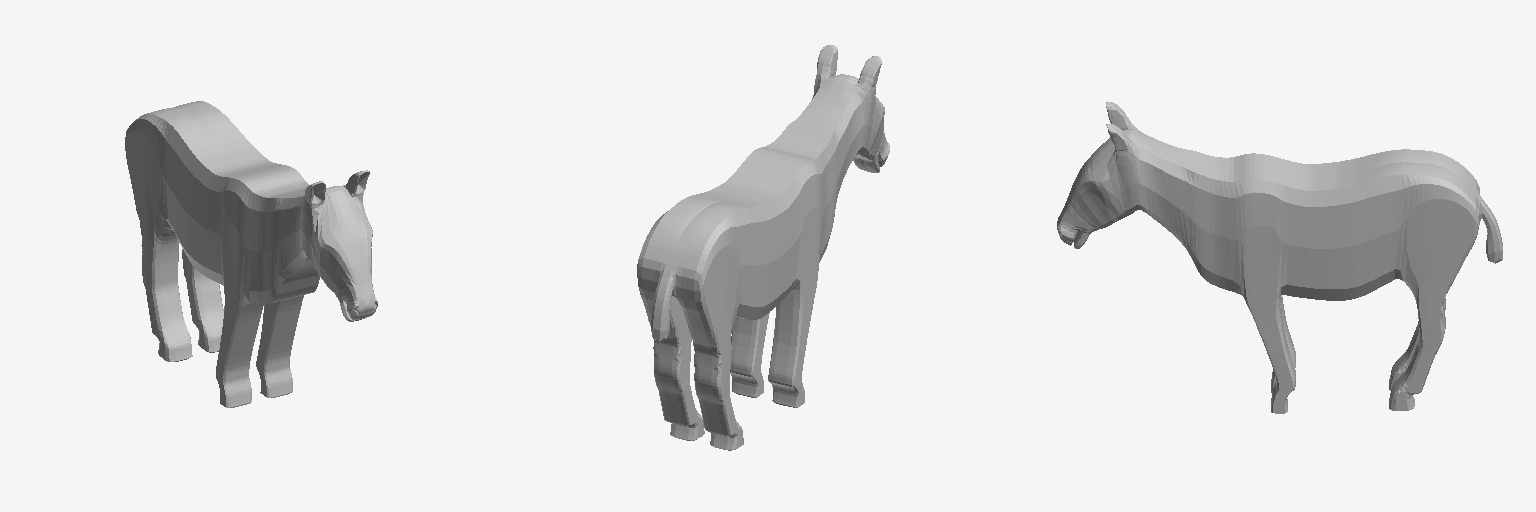
The model's file is invitacion.obj.
The picture shows the model from 3 angles: view 1: azimuth 30°, elevation 25°; view 2: azimuth 150°, elevation 25°; view 3: azimuth 270°, elevation 25°; orthographic projection.
Visible parts, largest first — view 1: UV_Texture; view 2: UV_Texture; view 3: UV_Texture.
Boxes of the visible parts, box(x1,y1,x2,y2) form: UV_Texture: box(125, 101, 377, 407); UV_Texture: box(637, 45, 889, 450); UV_Texture: box(1057, 102, 1502, 413).
Bounding box in the file's own units: 7.42 × 29.58 × 42.